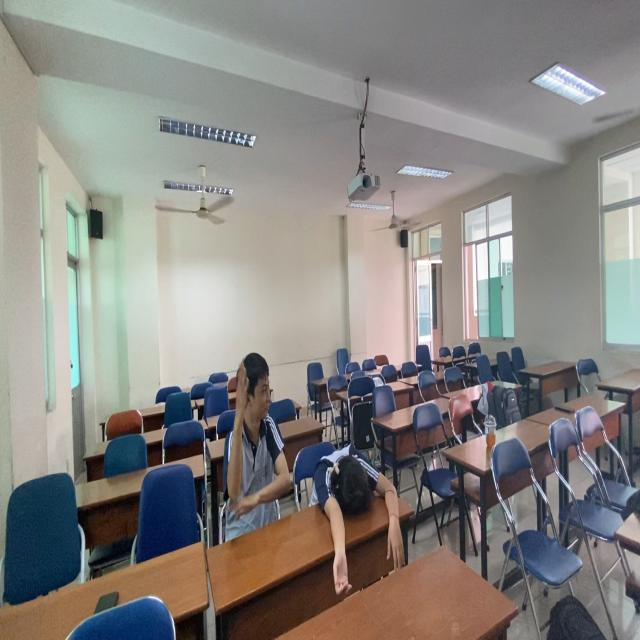sleep: (305, 428, 412, 603)
